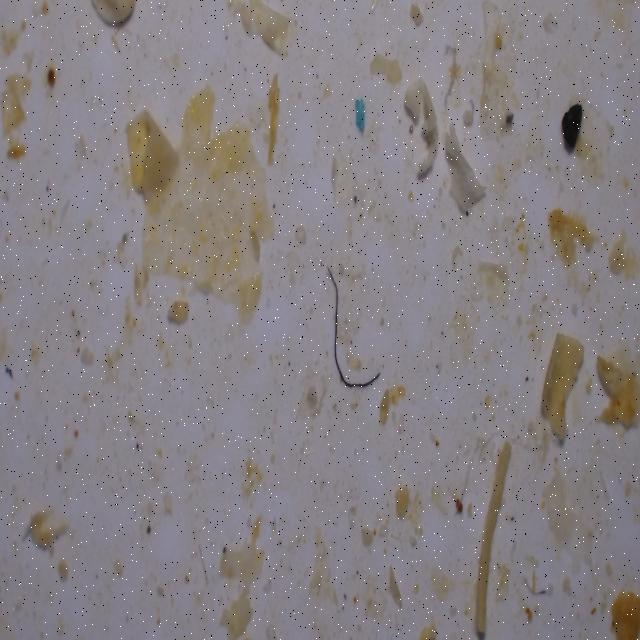fiber: (320, 255, 386, 395)
fragment: (557, 101, 585, 154), (349, 93, 373, 135)
